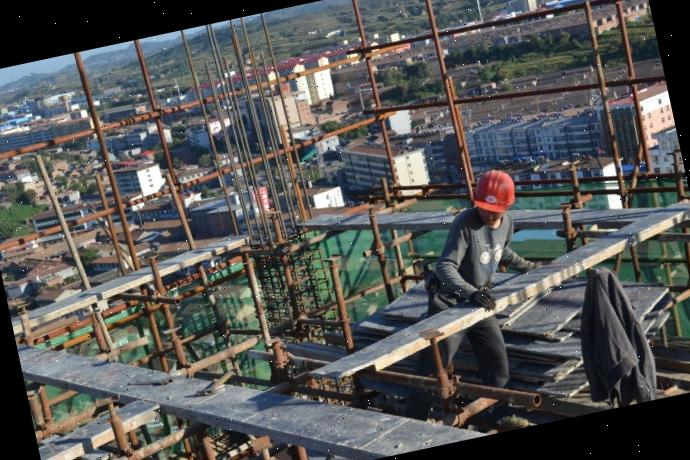helmet: (468, 166, 522, 216)
no_wear: (432, 213, 520, 301)
